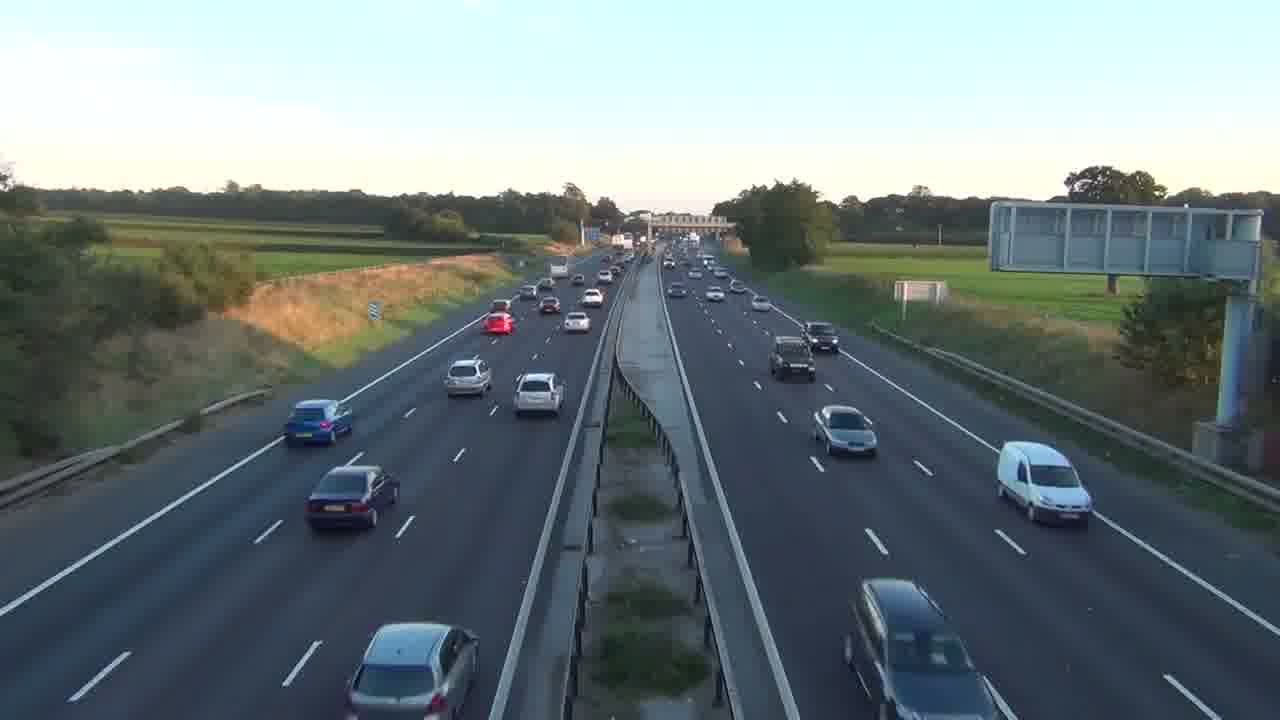car: (841, 576, 996, 718), (343, 621, 480, 719), (995, 440, 1094, 527), (305, 462, 400, 531), (812, 404, 879, 457), (285, 398, 351, 446), (512, 370, 566, 415), (769, 337, 817, 382), (444, 355, 492, 397), (561, 312, 592, 334), (538, 296, 561, 314)
